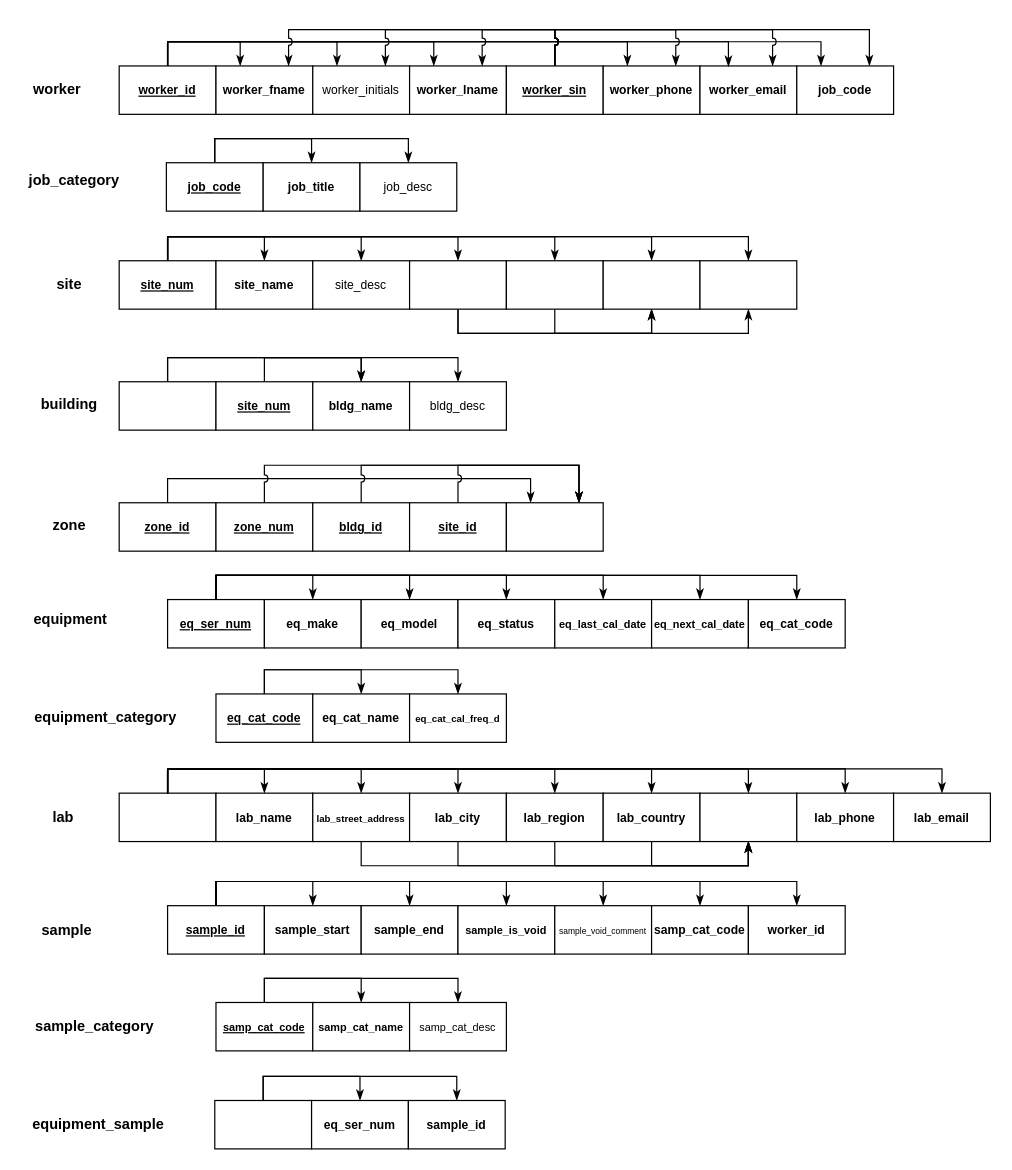
The diagram is 1012 pixels wide and 1170 high, and some of its shapes have lost their labels. Each missing label, with the centre of its shape:
bldg_num: [167,405]
es_id: [263,1124]
lab_id: [167,817]
lab_postal_code: [748,817]
site_country: [748,284]
site_lat: [457,284]
site_long: [554,284]
site_region: [651,284]
zone_desc: [554,526]
